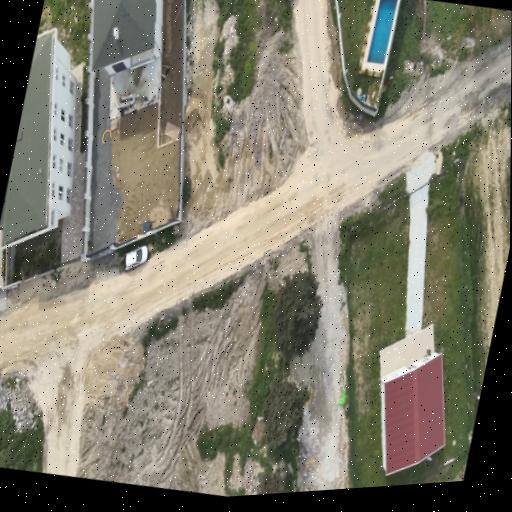car: (125, 245, 148, 269), (283, 0, 301, 3)
